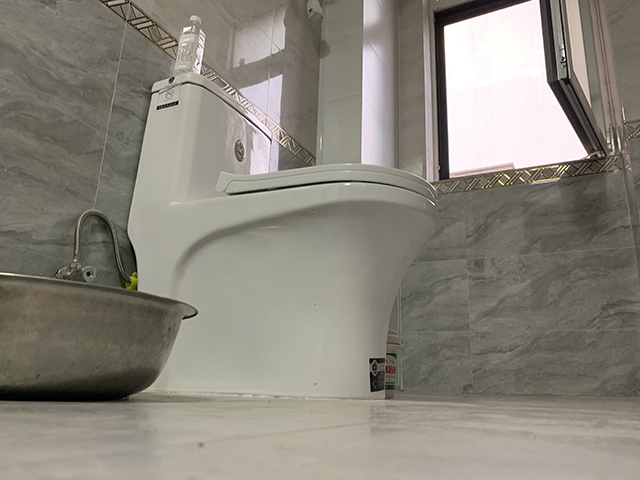closestool: (125, 71, 439, 401)
